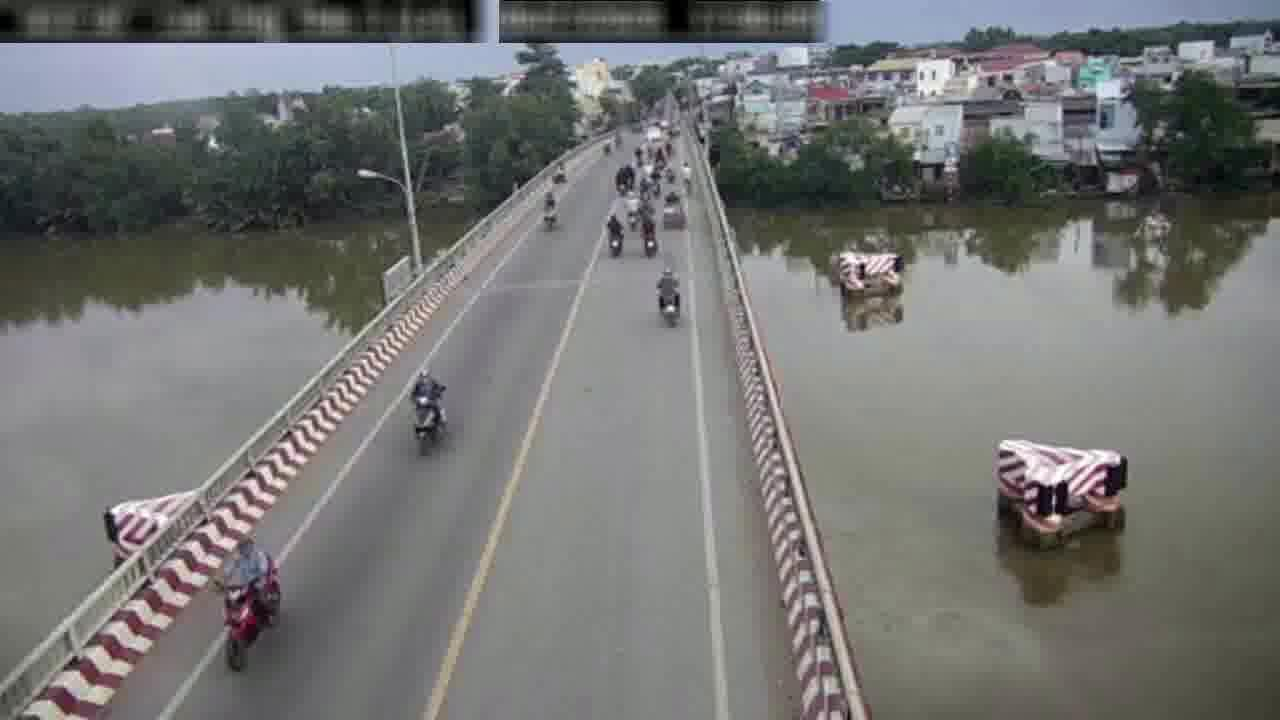motorbike: (219, 534, 287, 675), (413, 365, 447, 455), (656, 263, 684, 335), (605, 212, 624, 259), (640, 215, 657, 259), (541, 187, 557, 231), (624, 189, 640, 232), (679, 157, 694, 193), (614, 162, 629, 195)
